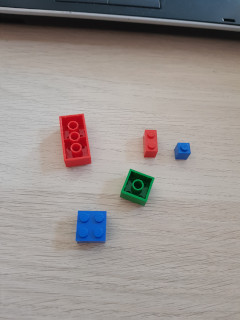1x1 blue: (175, 143, 191, 160)
1x2 red: (143, 129, 158, 158)
2x2 blue: (75, 210, 108, 244)
2x2 green: (120, 168, 153, 206)
2x4 red: (60, 112, 92, 169)
